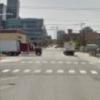crosswalks: (2, 69, 97, 73), (20, 62, 85, 64)
